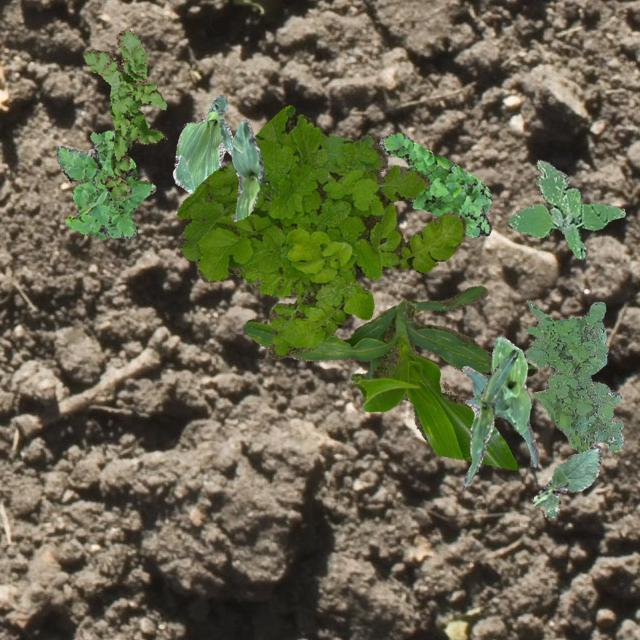crop: (243, 284, 536, 470), (460, 336, 538, 466), (462, 348, 516, 488), (172, 94, 232, 194), (532, 444, 602, 518), (230, 118, 264, 220)
weed: (176, 104, 464, 358), (524, 300, 622, 452), (82, 28, 166, 198), (378, 132, 490, 236), (508, 158, 624, 258), (56, 130, 154, 238)
